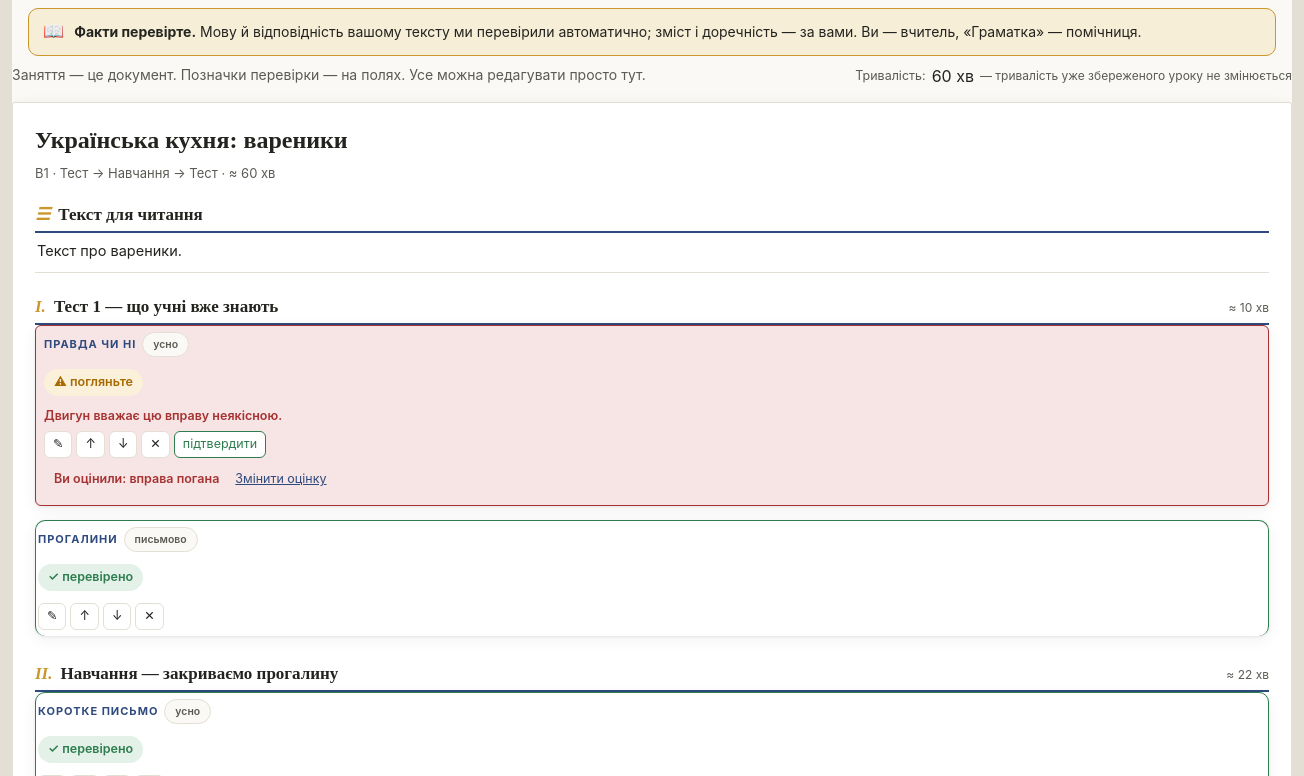
Test: engine-flagged blocks — badge, ack flow, and teacher feedback (#402) › shows the saved applicable verdict and reopens the form on change
Expected: the element with test id "feedback-saved" is shown, top-left (44, 466), bottom-right (326, 493)
Click the button "Змінити оцінку".
click(281, 479)  # box top-left (235, 469), bottom-right (326, 490)
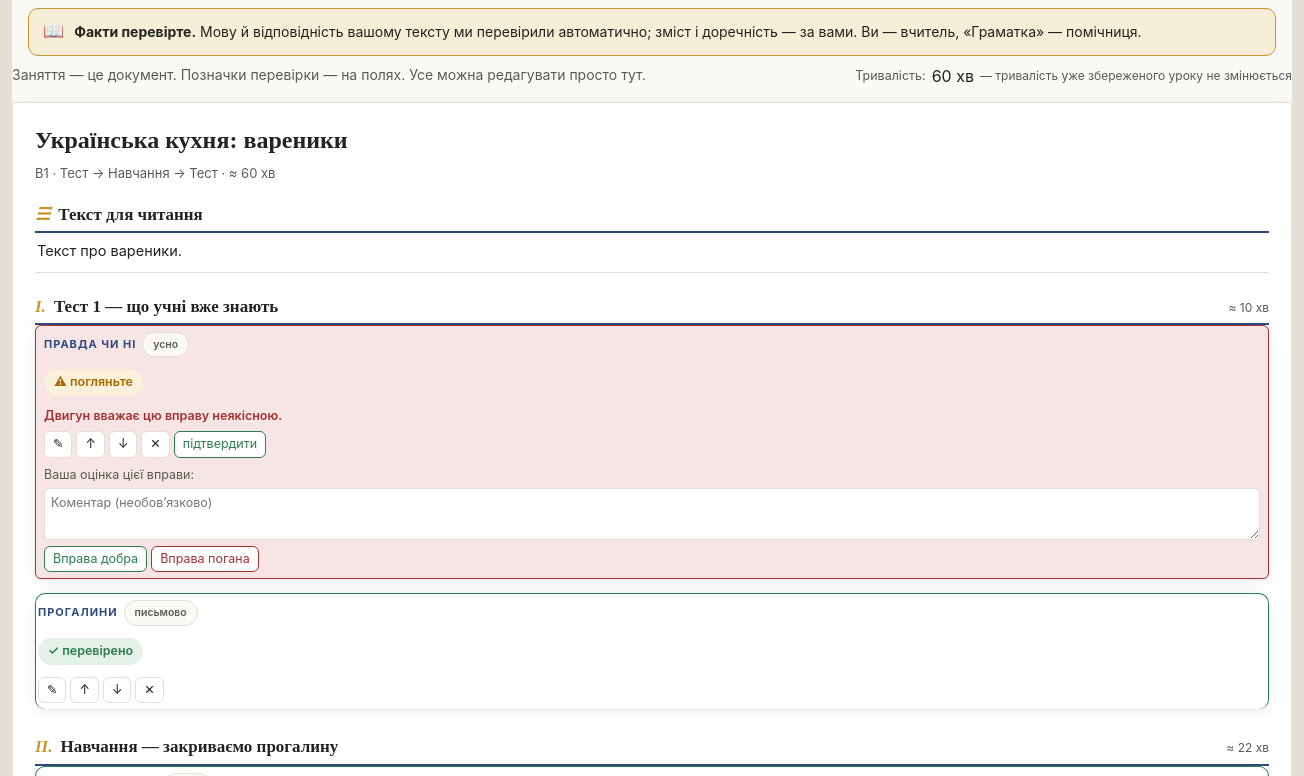
Now the element with test id "feedback-form" is shown, box top-left (44, 466), bottom-right (1260, 572)
